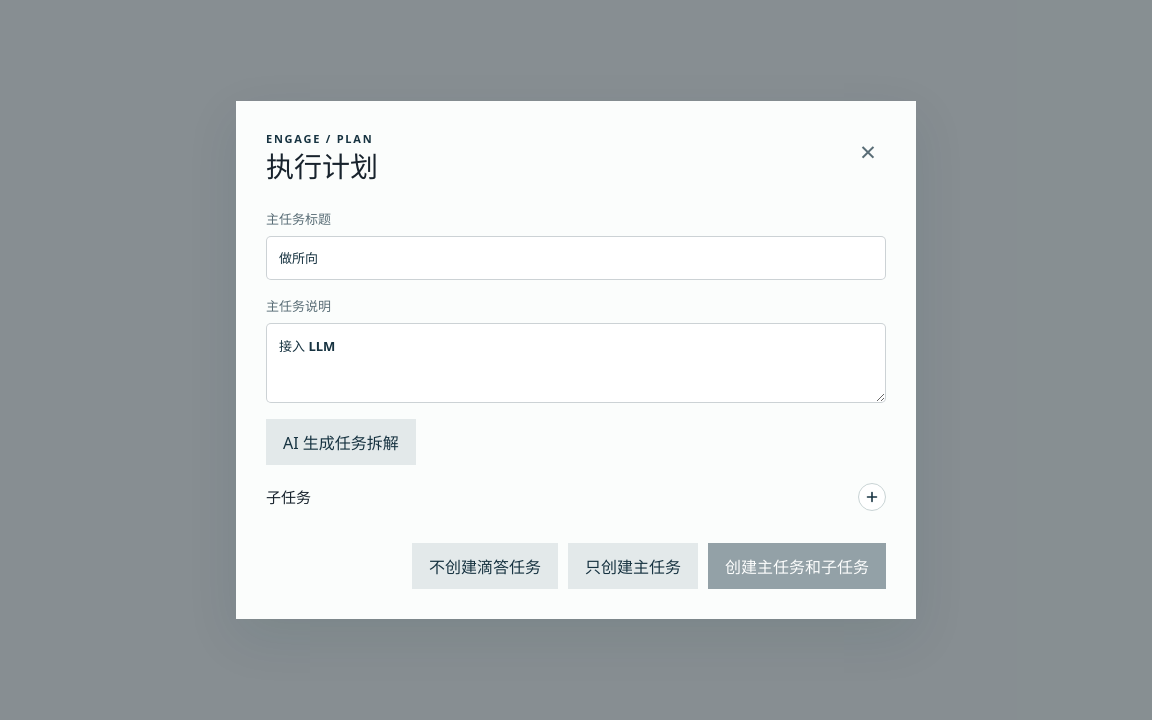
it: EngagePlanDialog › uses icons for step actions
Click the button named "新增一级任务": [872, 497] box [858, 483, 886, 511]
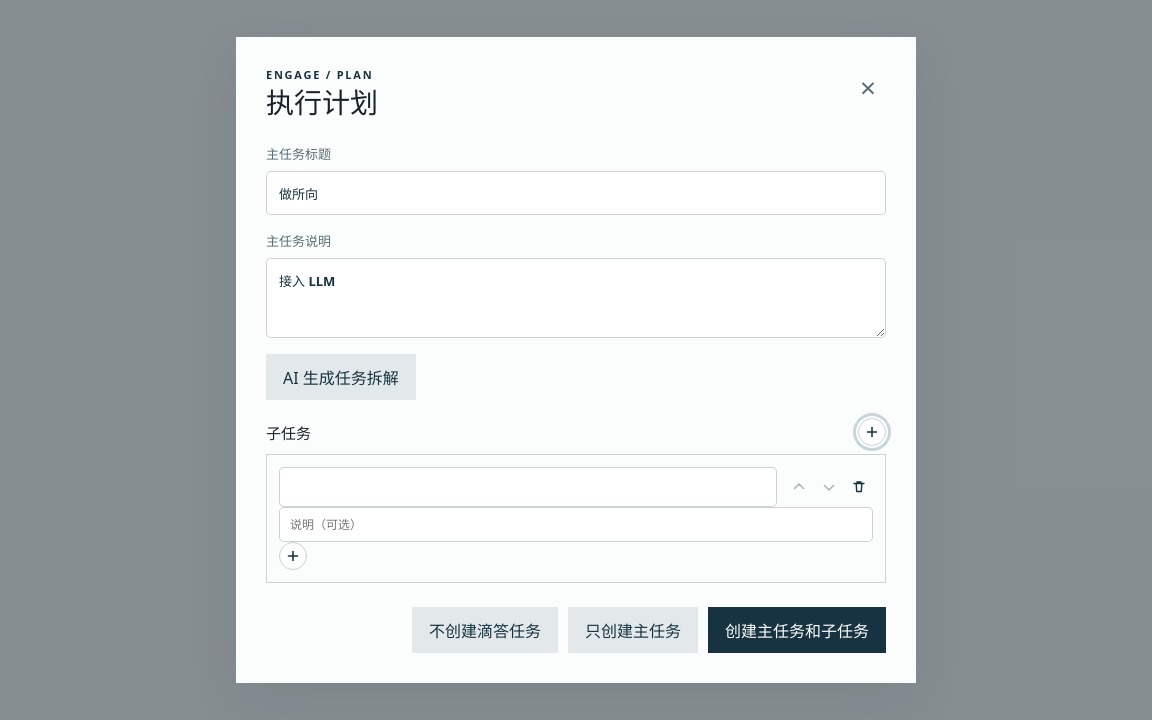
Now the button named "上移" is shown, box [785, 473, 813, 501]
Now the button named "下移" is shown, box [815, 473, 843, 501]
Now the button named "删除" is shown, box [845, 473, 873, 501]
